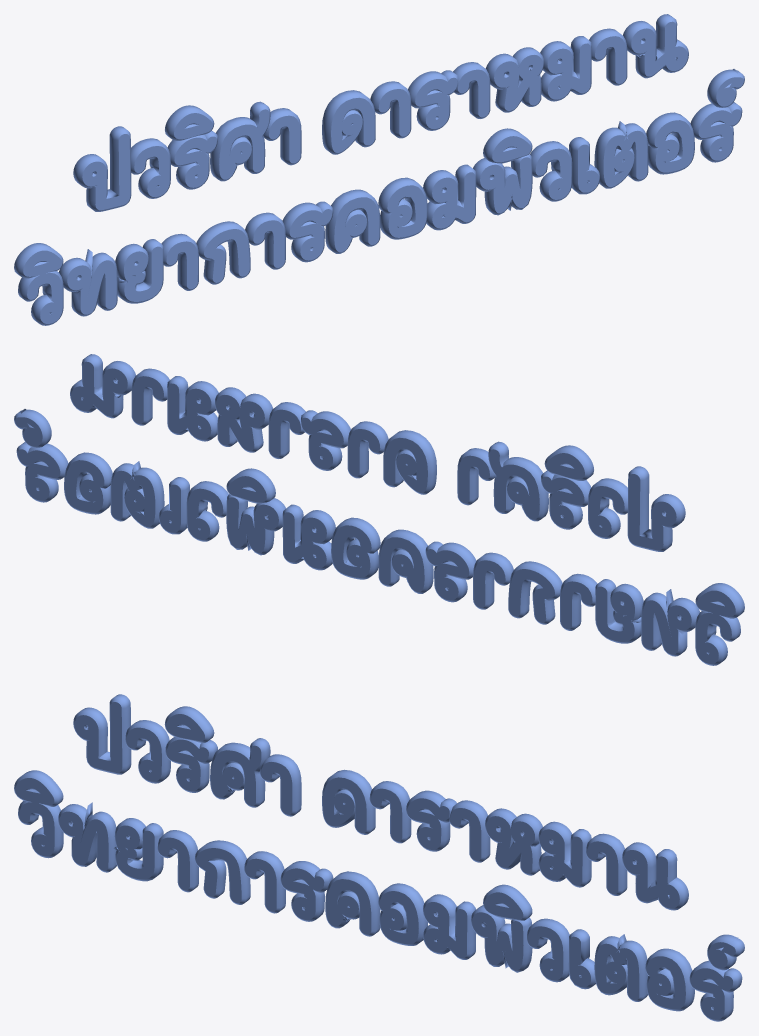
3 renders of one model, top to bottom at view 1: azimuth 30°, elevation 25°; view 2: azimuth 150°, elevation 25°; view 3: azimuth 330°, elevation 25°, orthographic.
Visible parts, largest first — view 1: Text; view 2: Text; view 3: Text.
Boxes of the visible parts, left/top/right/bottom form: Text: left=14, top=14, right=744, bottom=325; Text: left=14, top=354, right=744, bottom=665; Text: left=14, top=694, right=744, bottom=1021.
Bounding box in the file's own units: 3.58 × 0.8582 × 0.0678.
